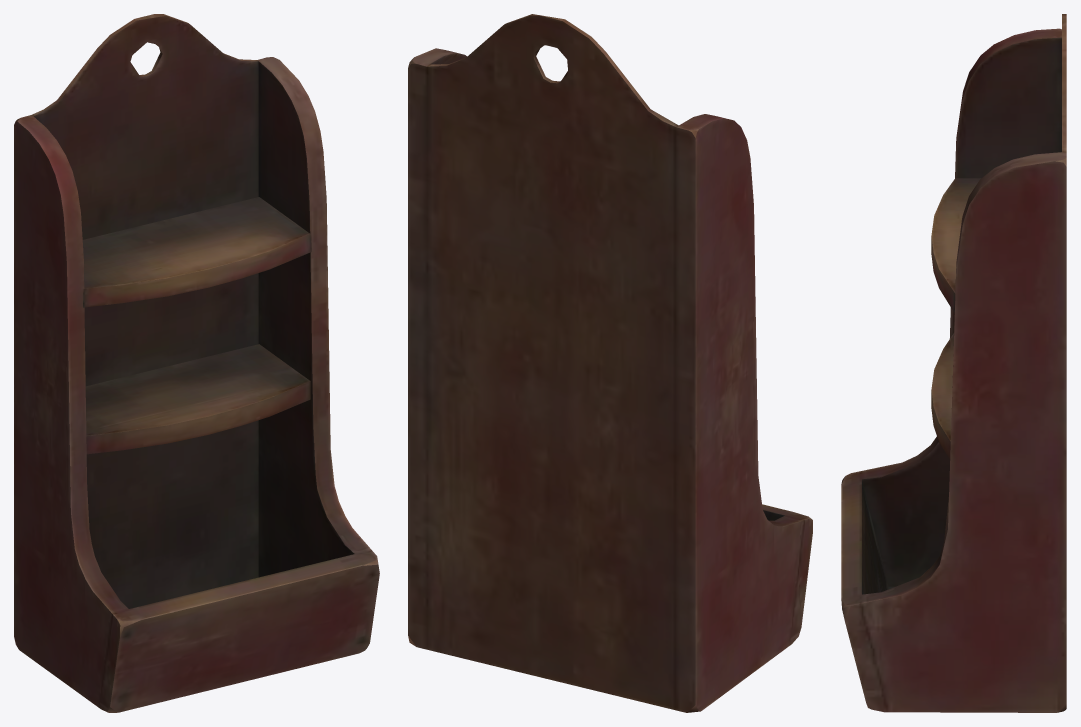
Rendered from painted_wooden_shelves.glb.
The picture shows the model from 3 angles, left to right: view 1: azimuth 30°, elevation 25°; view 2: azimuth 150°, elevation 25°; view 3: azimuth 270°, elevation 25°; orthographic projection. The views are drawn at different scales.
Parts seen in each view (by area): view 1: painted_wooden_shelves; view 2: painted_wooden_shelves; view 3: painted_wooden_shelves.
Part boxes in pixels (x1,y1,x2,y2): painted_wooden_shelves: [14, 14, 379, 712]; painted_wooden_shelves: [408, 14, 812, 712]; painted_wooden_shelves: [841, 14, 1066, 712].
Size of the model in its own units: 0.5111 by 1.12 by 0.3671.
Materials: 1 (1 with a texture image).
